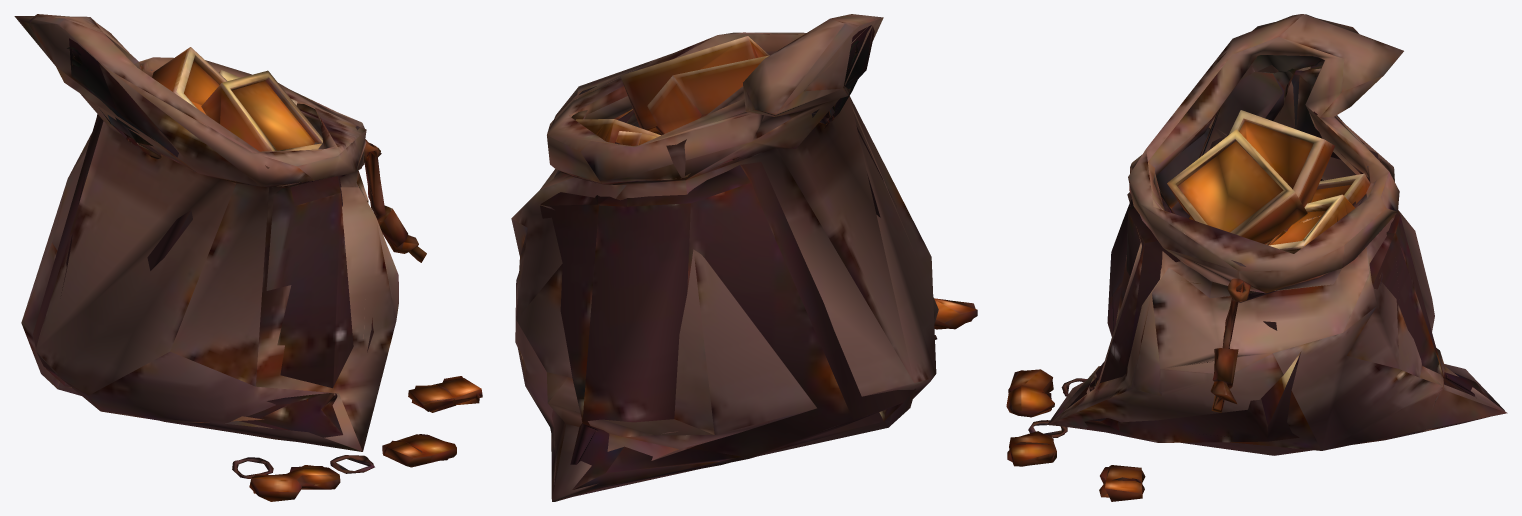
The model's file is loot.glb.
3 views of the same model, side by side, from view 1: azimuth 30°, elevation 25°; view 2: azimuth 150°, elevation 25°; view 3: azimuth 270°, elevation 25° (orthographic). The views are drawn at different scales.
Visible parts, largest first — view 1: geometry_0; view 2: geometry_0; view 3: geometry_0.
Boxes of the visible parts, box(x1,y1,x2,y2) form: geometry_0: box(14, 14, 482, 501); geometry_0: box(511, 14, 977, 501); geometry_0: box(1006, 14, 1507, 501).
Bounding box in the file's own units: 0.7584 × 0.7736 × 0.9992.
1 material, 1 textured.
